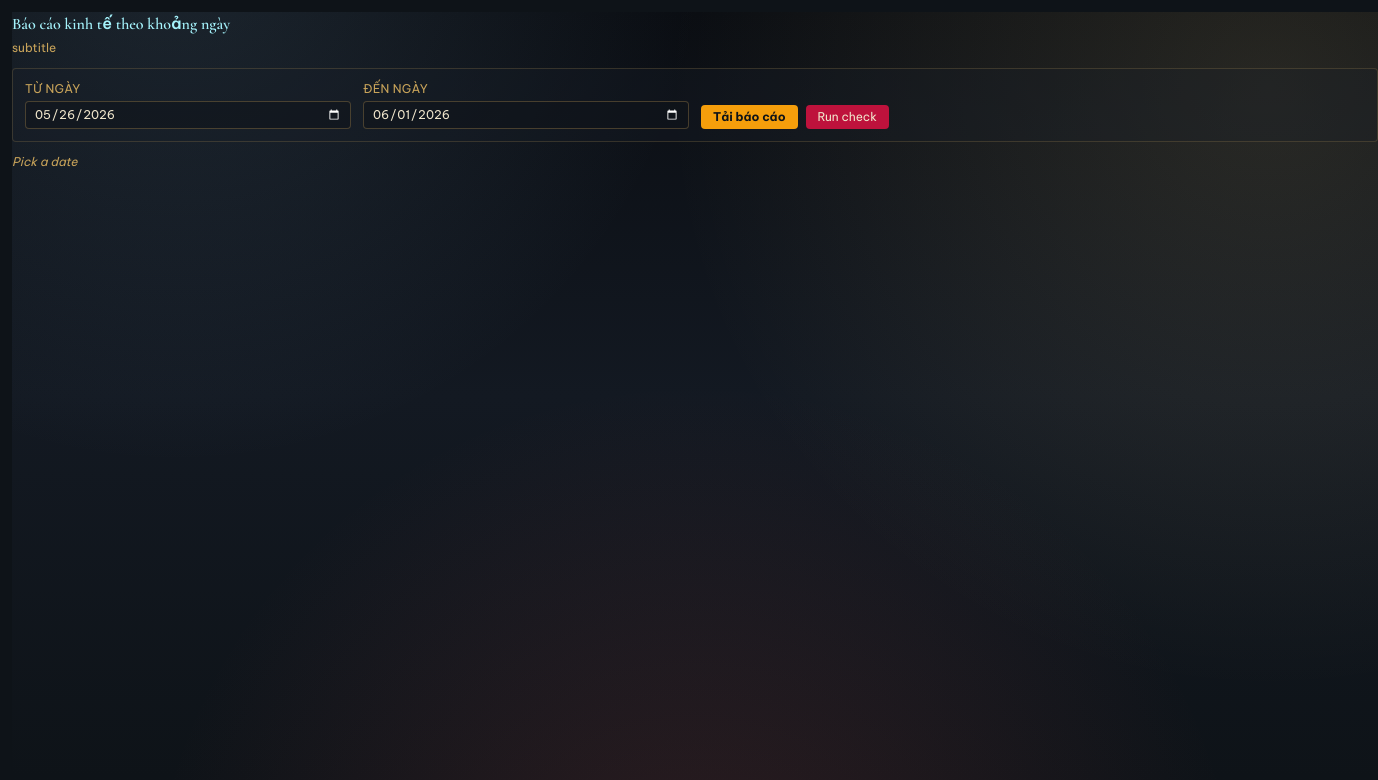
Test: AdminEconomyRangeReportPanel › load report API throws → error state renders
The width and height of the screenshot is (1378, 780).
What coordinates should you click on to do the following:
click the button with test id "admin-economy-range-report-load-btn"
I would click on:
 (749, 117)
Its box is [701,105,798,129].
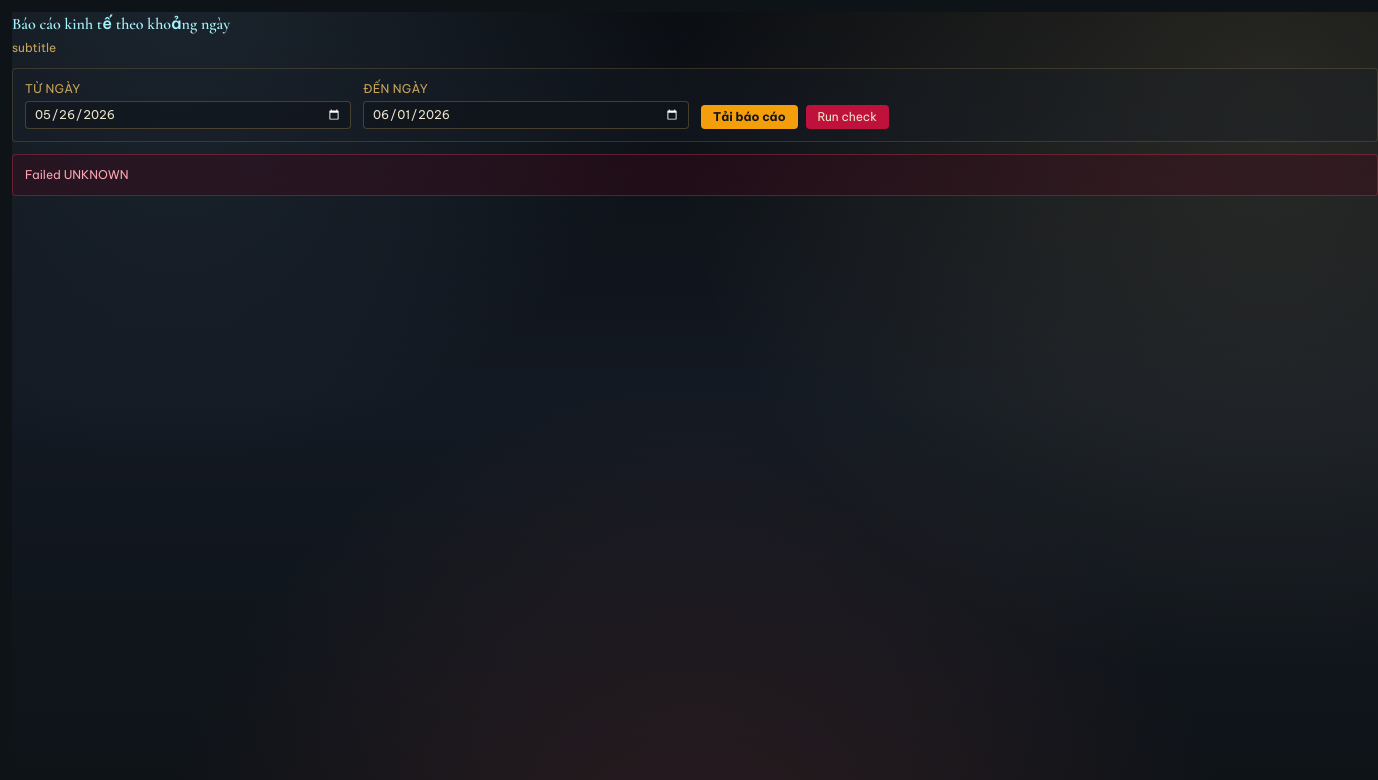
Check: the text "Failed UNKNOWN" is shown, box [12,154,1377,196]
